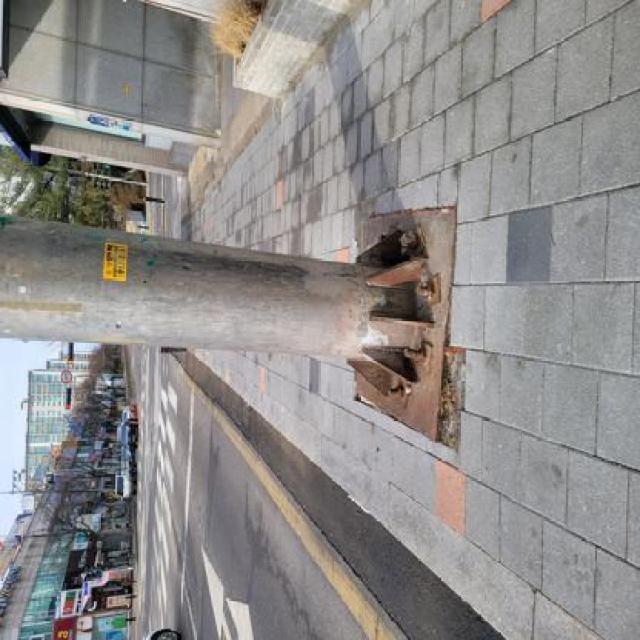pole: (0, 190, 478, 446)
